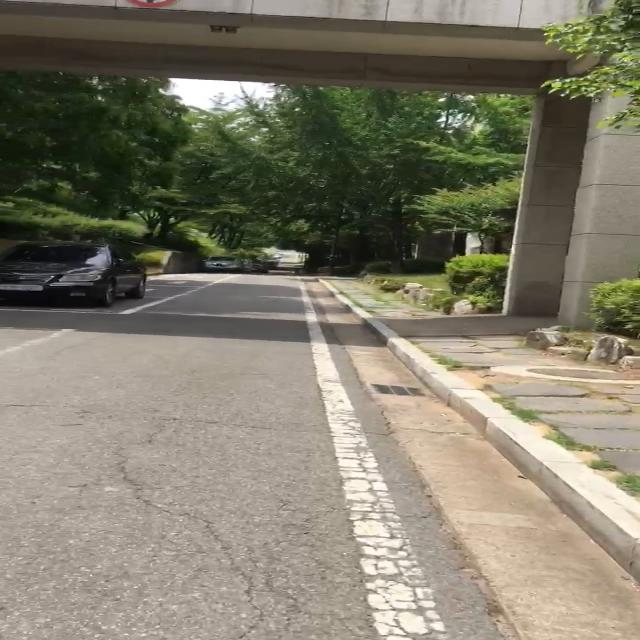obstacle: (0, 240, 161, 304), (197, 256, 279, 274)
road: (0, 270, 640, 640)
sidewalk: (305, 271, 640, 540)
